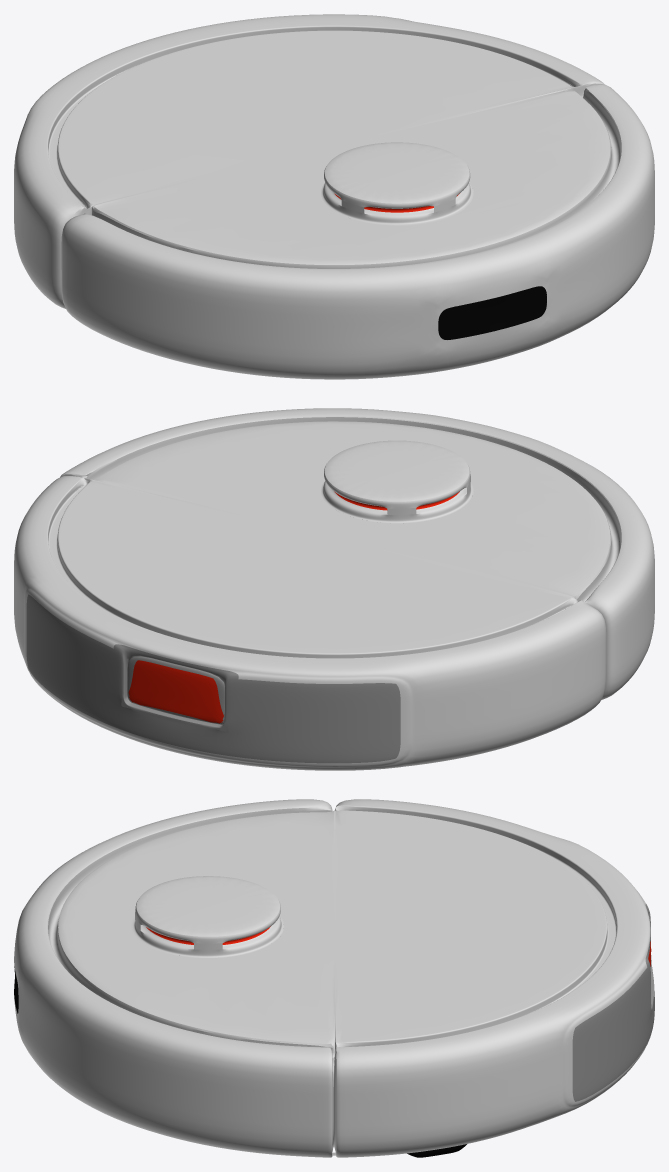
Rendered from XIAOMI.fbx.
The picture shows the model from 3 angles, top to bottom: view 1: azimuth 30°, elevation 25°; view 2: azimuth 150°, elevation 25°; view 3: azimuth 270°, elevation 25°; orthographic projection.
Visible parts, largest first — view 1: Circle; view 2: Circle; view 3: Circle.
Boxes of the visible parts, x1,y1,x2,y2 form: Circle: (14,14,654,379); Circle: (14,408,654,770); Circle: (14,799,654,1157).
Bounding box in the file's own units: 123 × 33.75 × 124.
